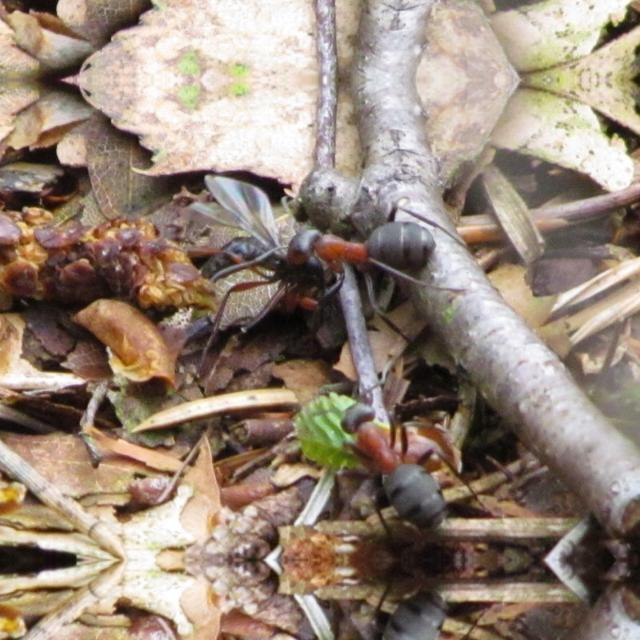Formica: (322, 380, 474, 526), (268, 203, 448, 303), (321, 594, 474, 640)
